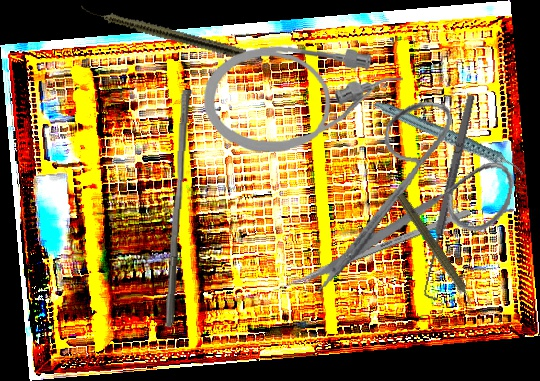Cannula: (201, 41, 406, 155)
Handpiece: (372, 72, 526, 207), (391, 191, 483, 315), (78, 3, 247, 60)
Hook Surgical: (417, 91, 485, 303)
Iris Scissors: (306, 86, 525, 325)
Pusher: (261, 207, 472, 299), (164, 89, 192, 328)
